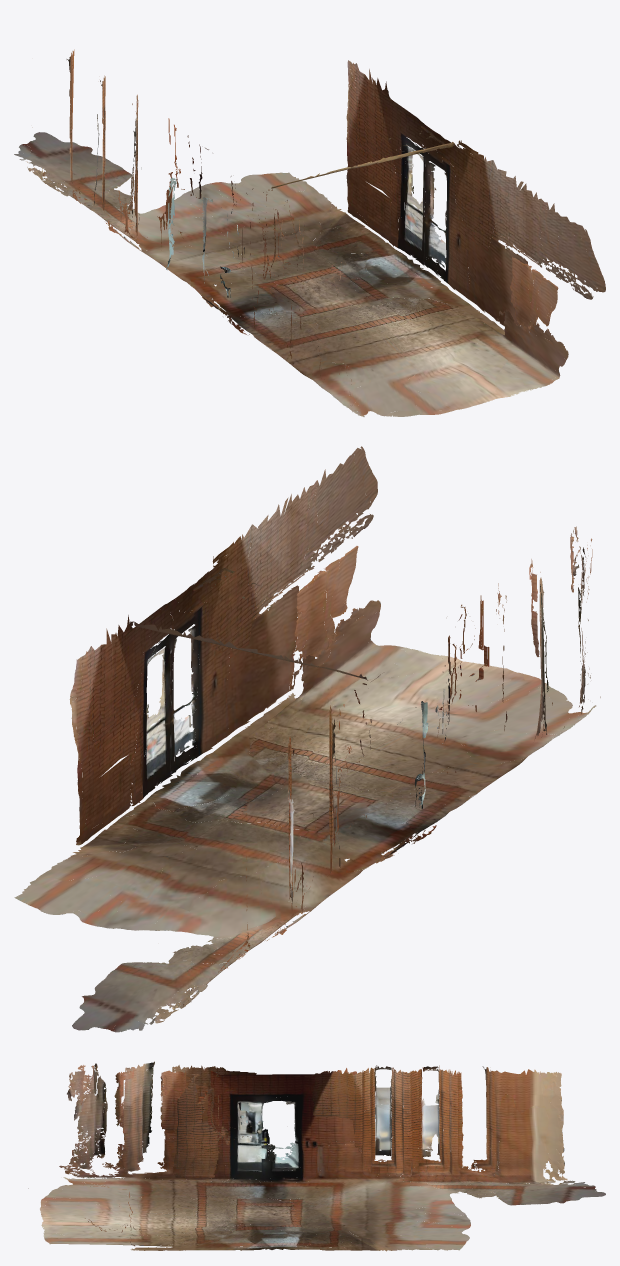
File: entrance.glb
The picture shows the model from 3 angles, top to bottom: view 1: azimuth 30°, elevation 25°; view 2: azimuth 150°, elevation 25°; view 3: azimuth 270°, elevation 25°; orthographic projection. The views are drawn at different scales.
Parts seen in each view (by area): view 1: entrance_F1; view 2: entrance_F1; view 3: entrance_F1.
Part boxes in pixels (left/top/right/bottom): entrance_F1: left=14, top=49, right=605, bottom=416; entrance_F1: left=14, top=446, right=600, bottom=1032; entrance_F1: left=28, top=1061, right=605, bottom=1251.
Bounding box in the file's own units: 5.05 × 3.51 × 15.22.
Materials: 1 (1 with a texture image).
